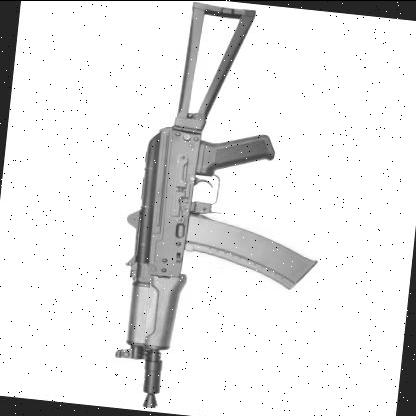rifle: (78, 1, 338, 416)
